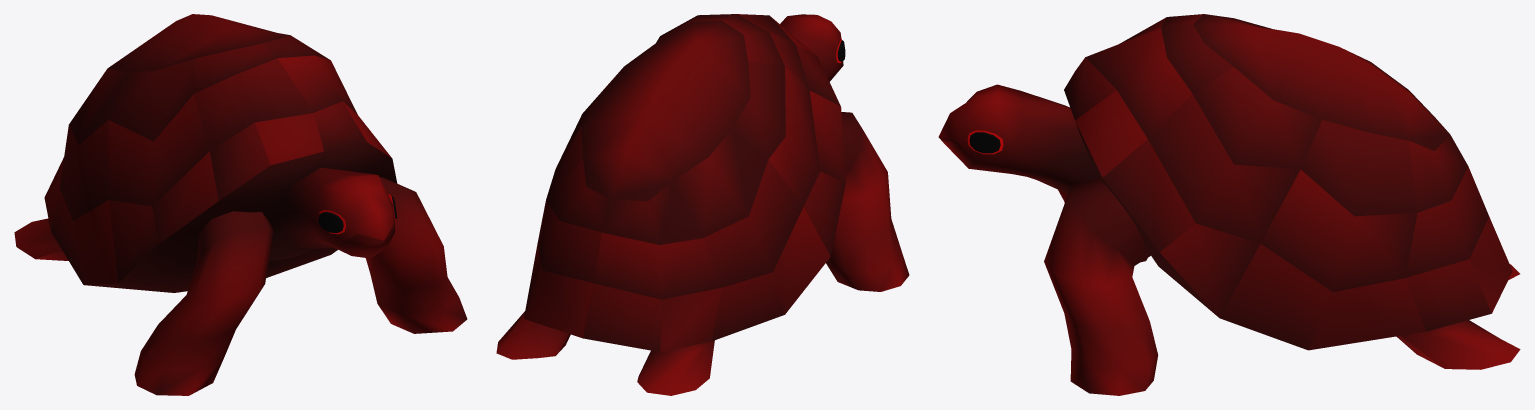
Rendered from Reptiles_Tortoise.fbx.
3 renders of one model, left to right at view 1: azimuth 30°, elevation 25°; view 2: azimuth 150°, elevation 25°; view 3: azimuth 270°, elevation 25°, orthographic. The views are drawn at different scales.
Parts seen in each view (by area): view 1: base; view 2: base; view 3: base.
Boxes of the visible parts, x1=… form: base: x1=14, y1=14, x2=467, y2=395; base: x1=496, y1=14, x2=909, y2=395; base: x1=938, y1=14, x2=1520, y2=395.
Bounding box in the file's own units: 84.3 × 69.82 × 127.
